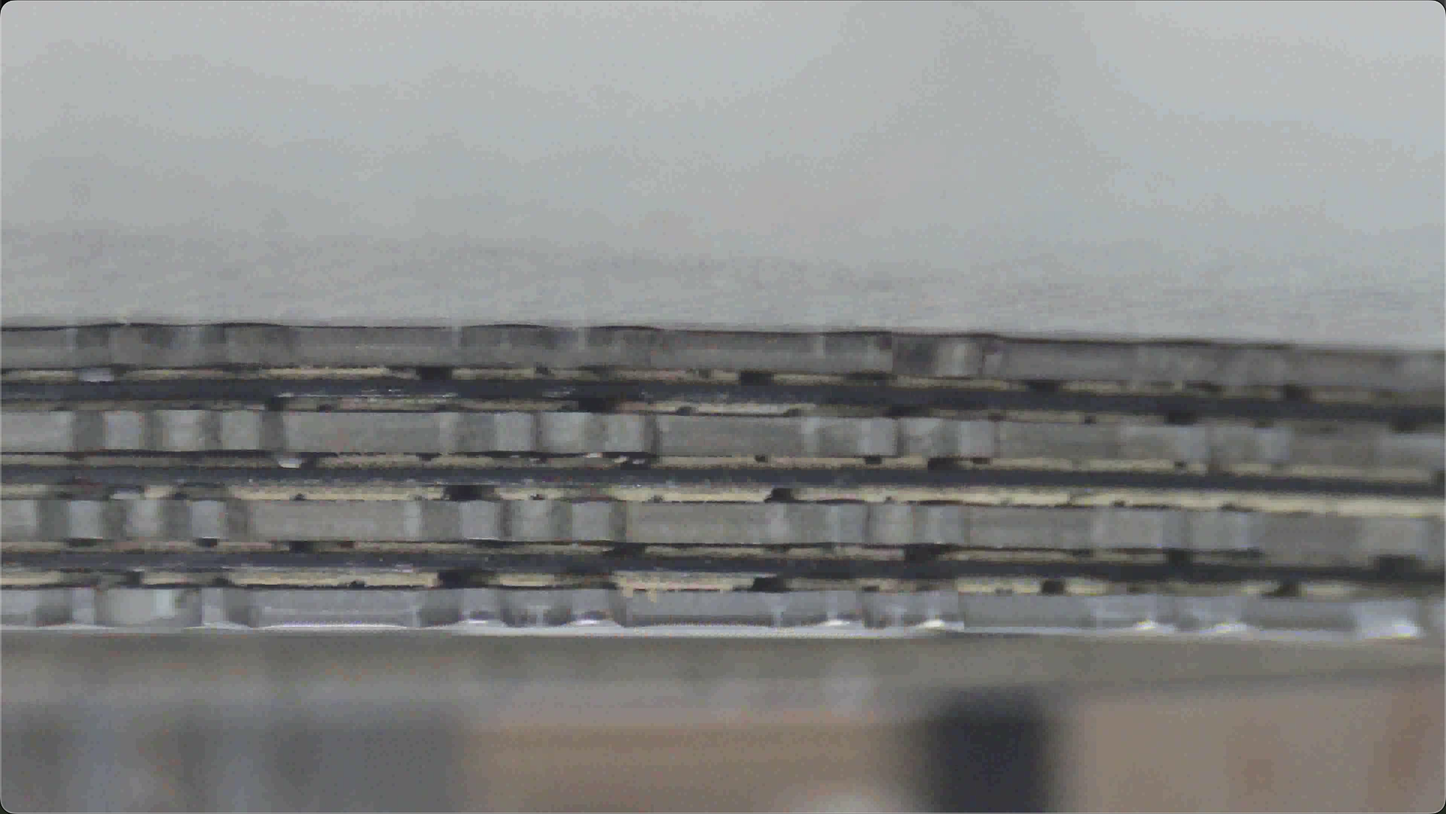Black metal plate: (0, 324, 1445, 394)
shiney metal plate: (4, 408, 1445, 473), (0, 252, 1442, 316), (0, 172, 1441, 230)
spacer: (14, 191, 1441, 297), (0, 377, 1445, 425), (5, 316, 1445, 354)
